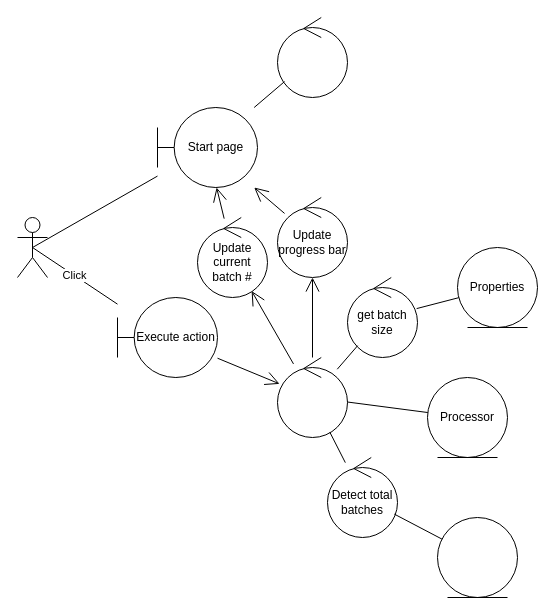
Image size: 555x615. Some labels were removed from this diagram. The centre of each missing label's shape, as x and y in pixels:
Show start page: point 312,57
Start processing: point 312,397
User: point 32,247
Validator: point 477,557
